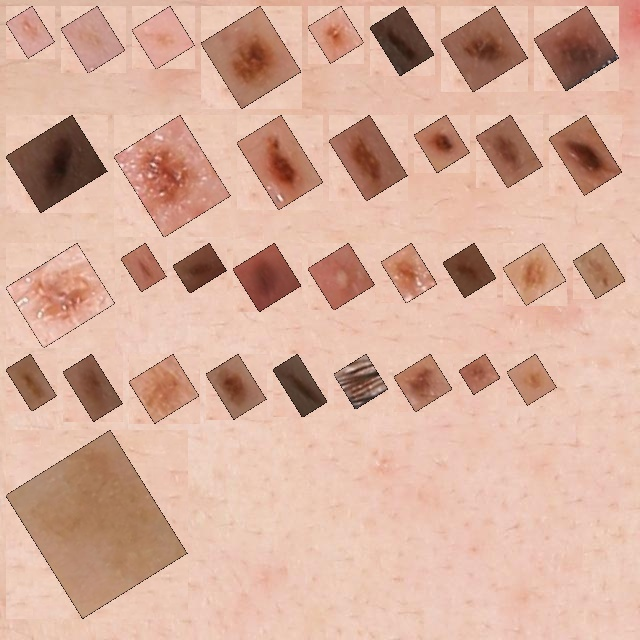melasma: (17, 441, 176, 607), (72, 17, 114, 62), (143, 17, 184, 58), (17, 17, 44, 47)
nevus: (125, 126, 219, 226), (17, 254, 104, 337), (212, 17, 290, 97), (17, 126, 96, 201), (248, 126, 312, 199), (452, 17, 517, 81), (545, 17, 608, 80), (340, 126, 396, 190), (560, 126, 611, 184), (487, 126, 532, 177), (140, 365, 188, 412), (244, 254, 290, 300), (381, 17, 423, 65), (74, 365, 112, 410), (514, 254, 555, 294), (217, 365, 255, 408), (284, 365, 316, 406), (405, 365, 441, 401), (392, 254, 426, 292), (319, 17, 353, 52), (425, 126, 459, 161), (345, 365, 377, 398), (17, 365, 46, 400), (454, 254, 485, 286), (584, 254, 614, 287), (184, 254, 215, 282), (518, 365, 545, 394), (132, 254, 155, 280), (470, 365, 489, 383)
pustule: (319, 254, 364, 299)
